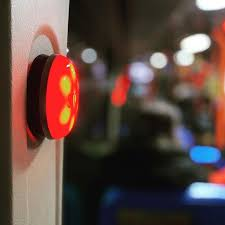bell: (24, 48, 88, 154)
